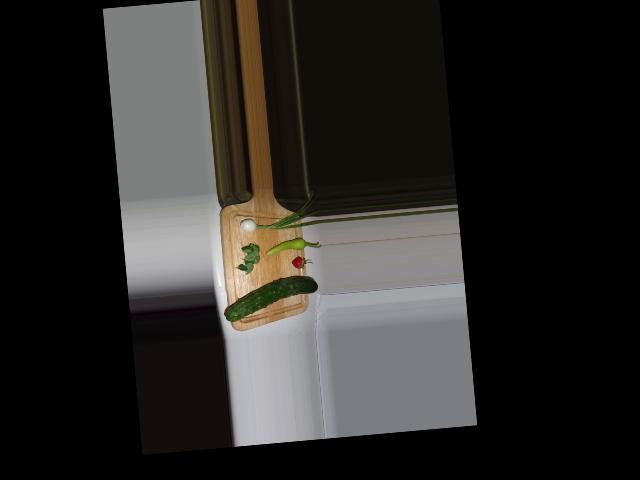cucumber: (222, 275, 319, 322)
